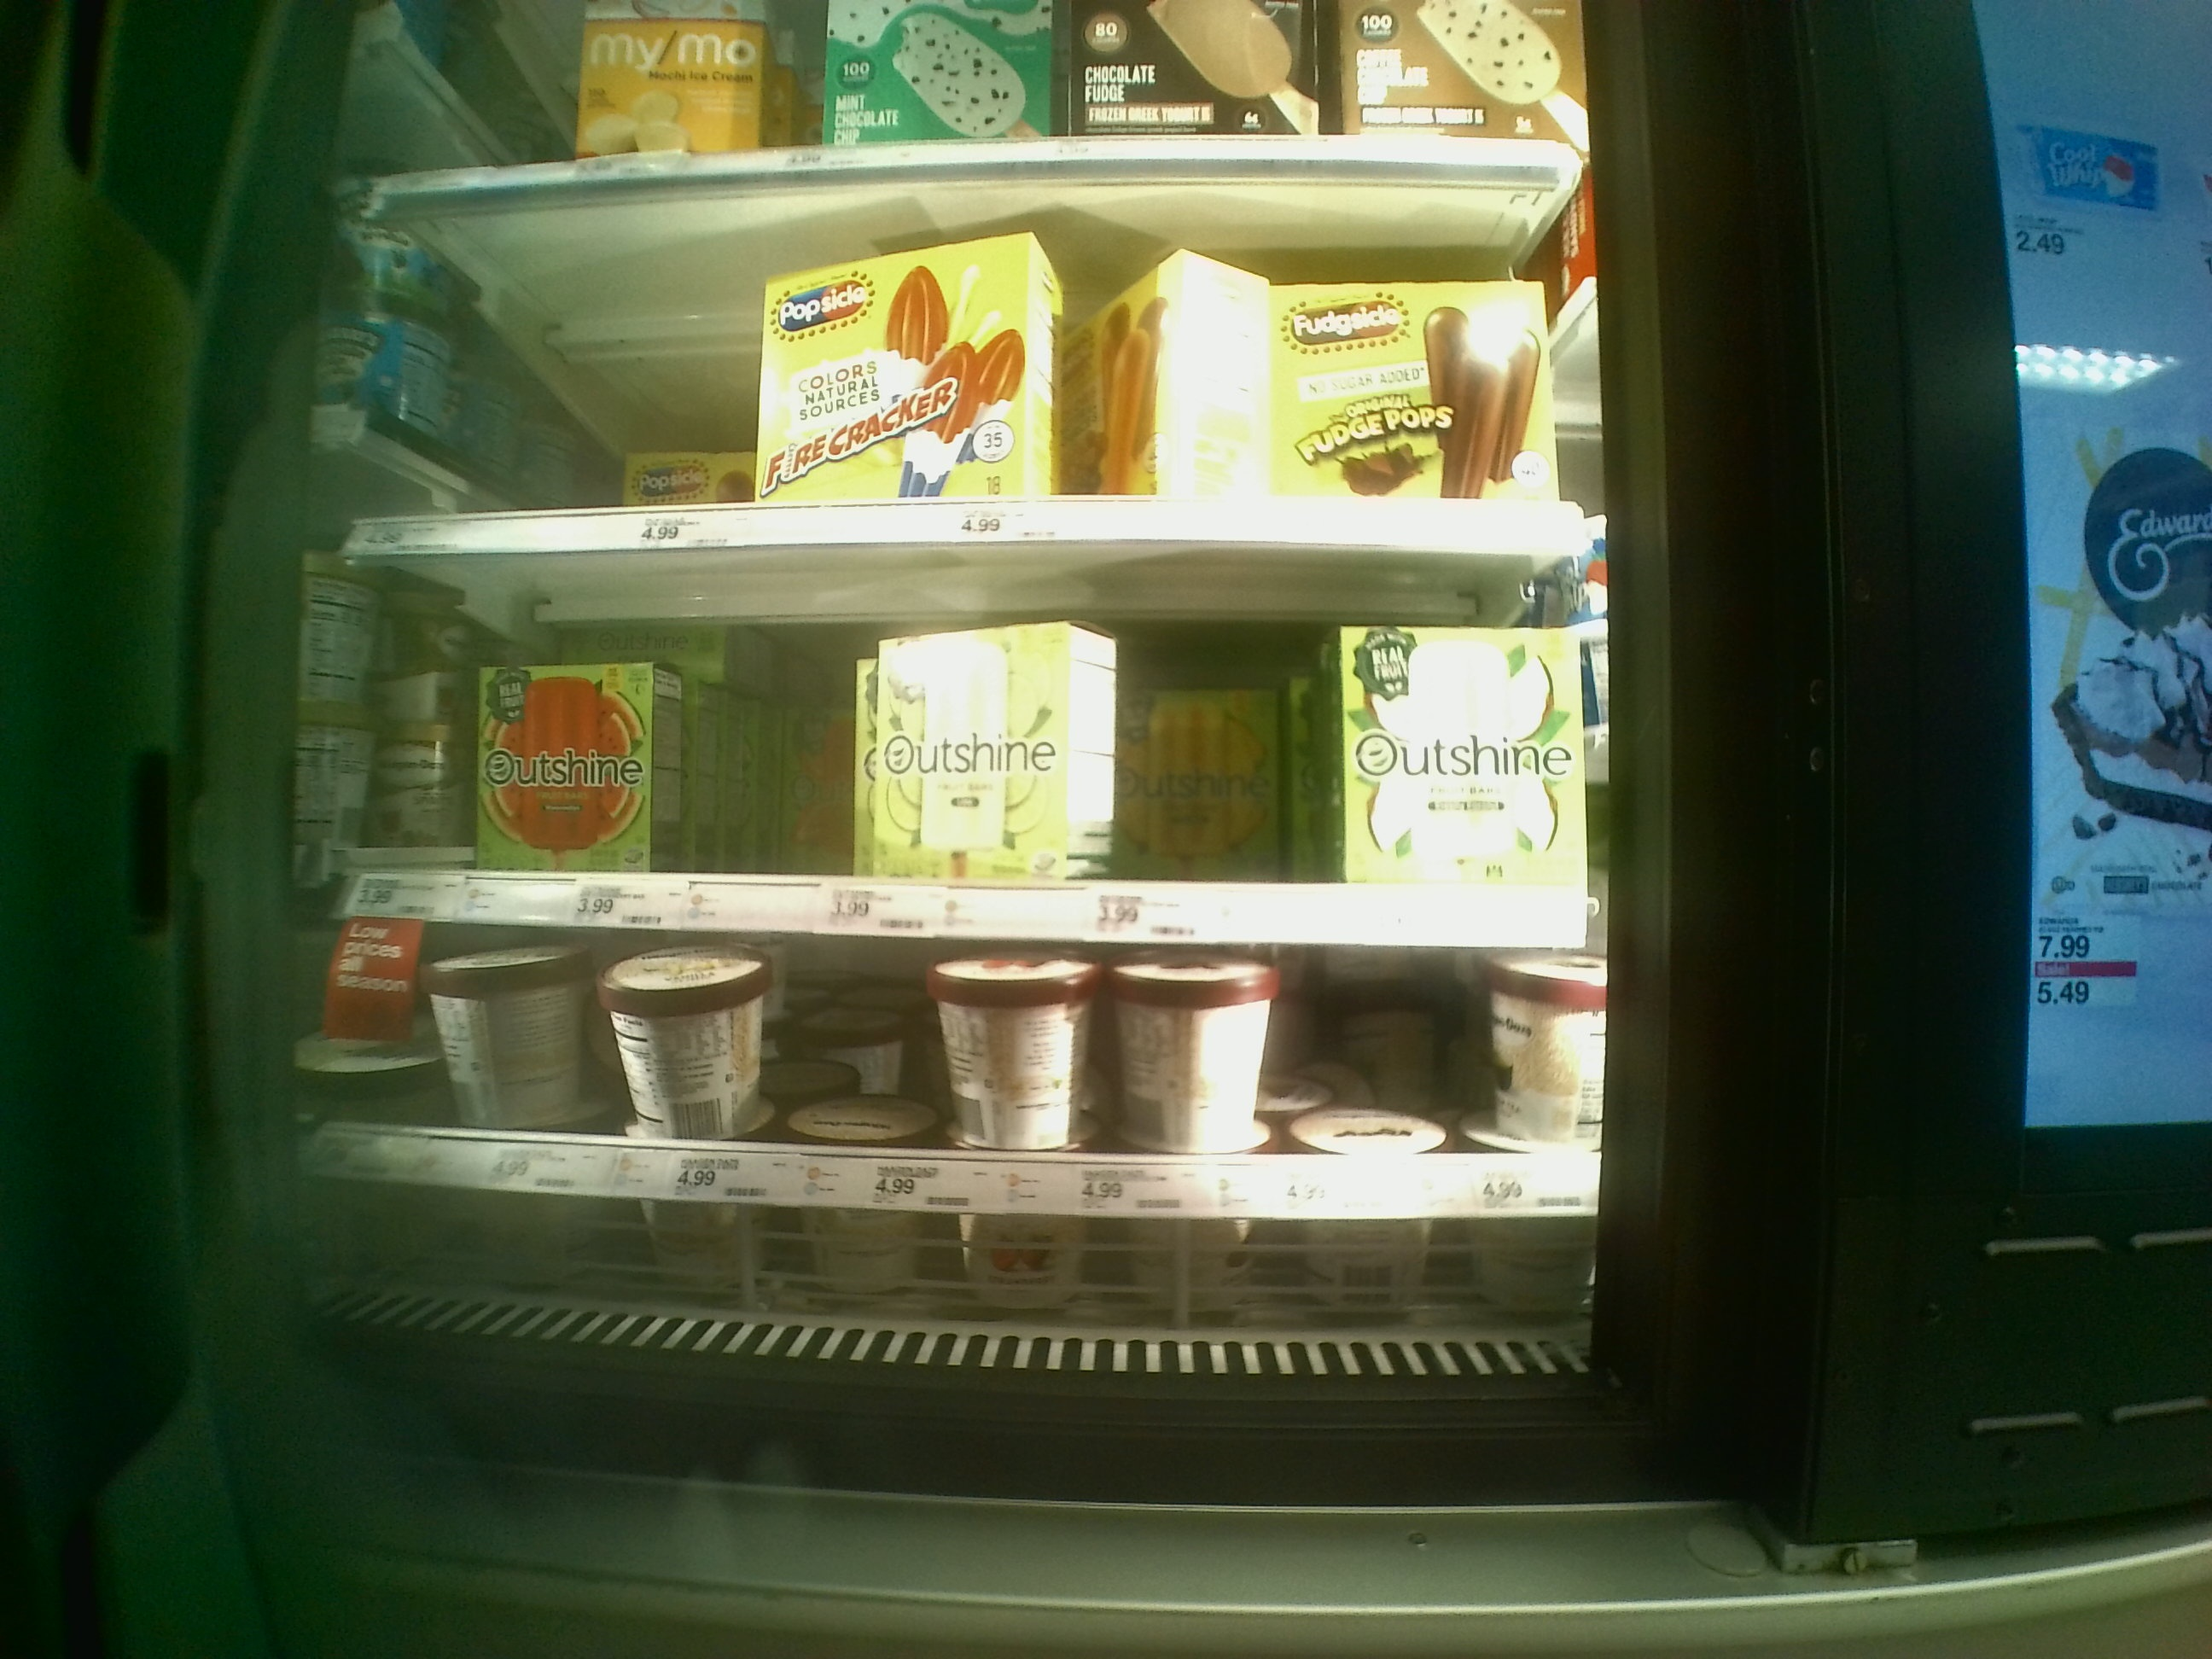ice-cream-shelf: (334, 558, 1606, 922), (374, 190, 1609, 547), (315, 922, 1599, 1208)
